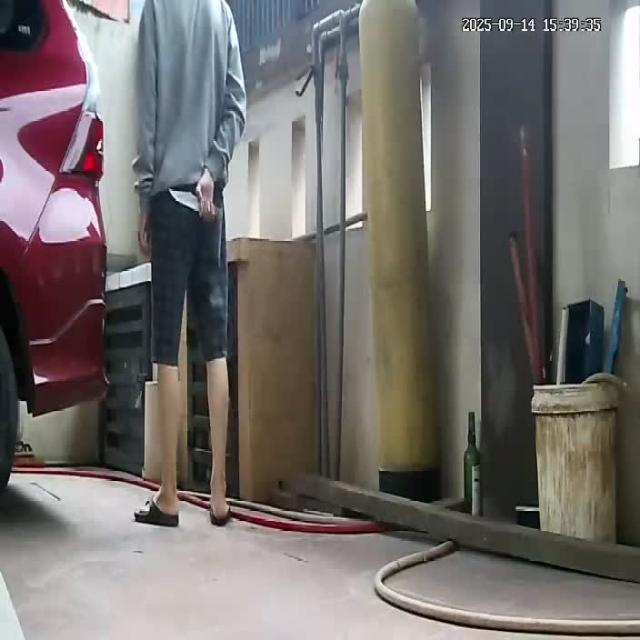senjata_tajam: (166, 185, 204, 212)
